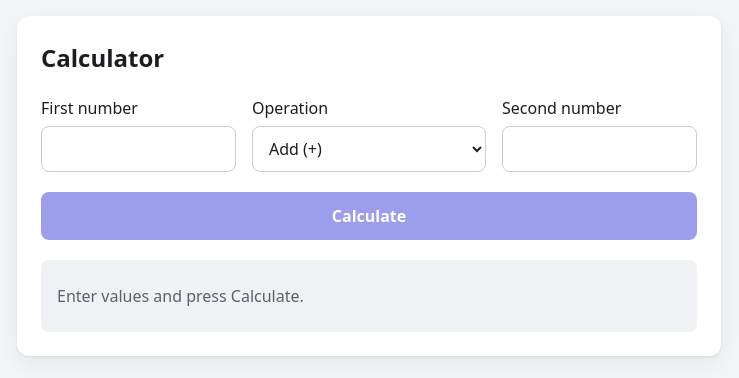
Test: Calculator › submits with the Enter key
This screenshot has width=739, height=378.
Step 1. Type "1" into the field labelled "First number" → (138, 149), box [41,126,236,172]
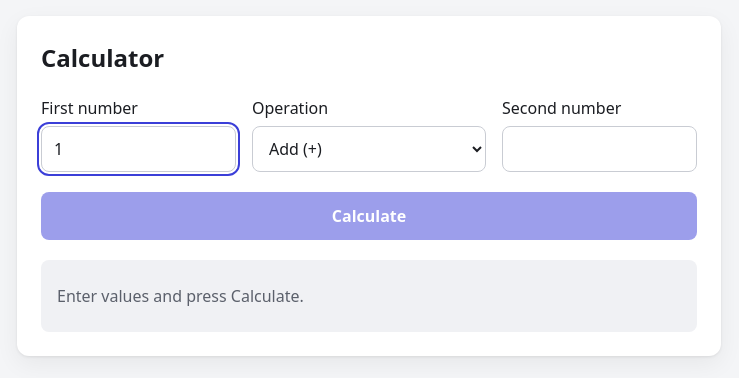
Step 2. Type "2" into the field labelled "Second number" → (600, 149), box [502,126,697,172]
Then press Enter
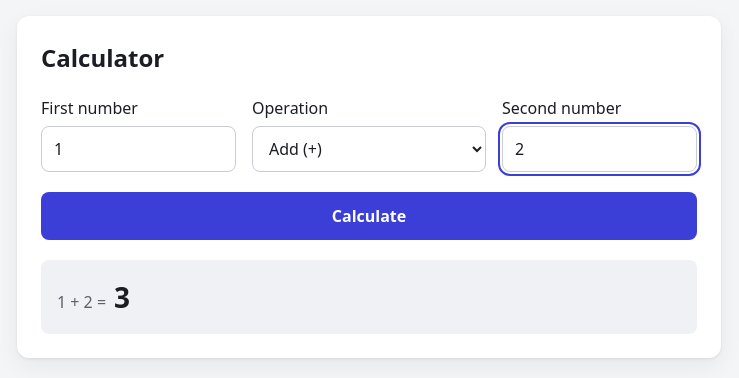
Expected: the text "3" is shown, [114,276,130,318]
